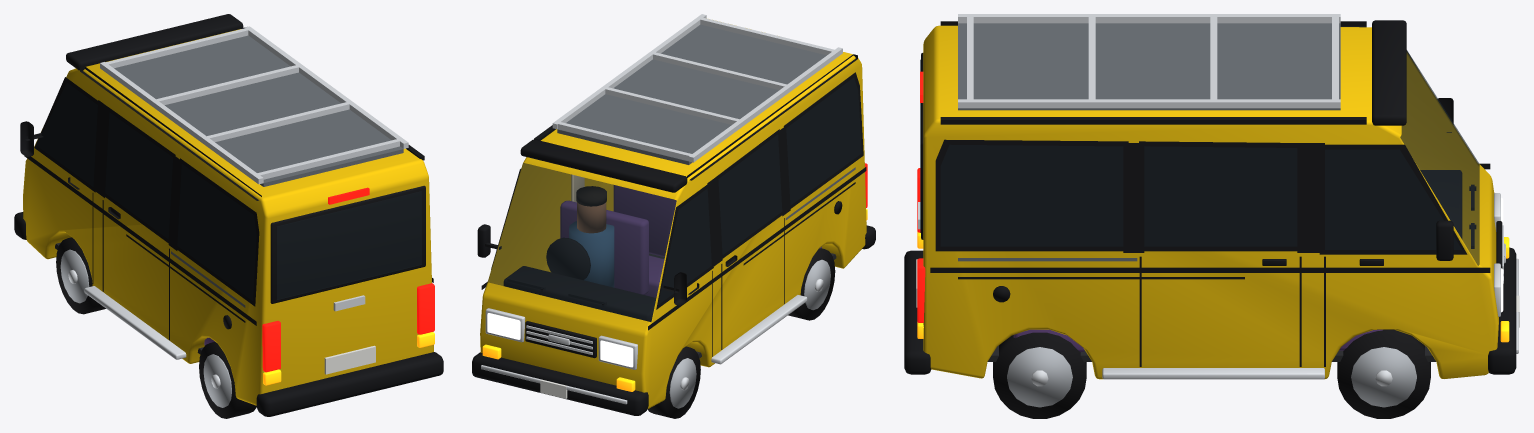
The model's file is van.glb.
3 views of the same model, side by side, from view 1: azimuth 30°, elevation 25°; view 2: azimuth 150°, elevation 25°; view 3: azimuth 270°, elevation 25° (orthographic). The views are drawn at different scales.
Visible parts, largest first — view 1: Body, WheelRL, WheelFL; view 2: Body, WheelFL, WheelRL; view 3: Body, WheelFR, WheelRR.
Part boxes in pixels (left/top/right/bottom): Body: left=14, top=14, right=443, bottom=416; WheelRL: left=199, top=342, right=256, bottom=418; WheelFL: left=56, top=237, right=105, bottom=314; Body: left=472, top=14, right=875, bottom=415; WheelFL: left=648, top=346, right=700, bottom=418; WheelRL: left=788, top=248, right=835, bottom=320; Body: left=904, top=14, right=1519, bottom=379; WheelFR: left=1337, top=329, right=1430, bottom=418; WheelRR: left=993, top=332, right=1086, bottom=418.
Bounding box in the file's own units: 1.74 × 1.99 × 3.54.
